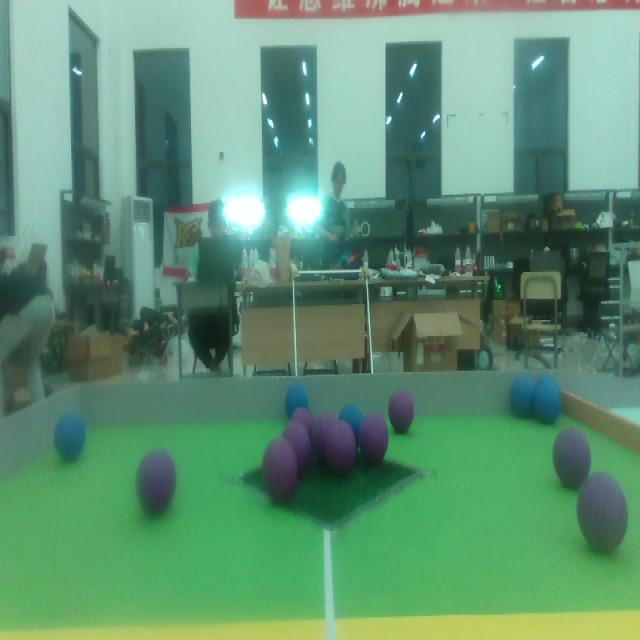blue: (54, 409, 87, 463), (532, 374, 560, 426), (339, 403, 364, 450), (513, 377, 535, 422), (284, 380, 308, 418)
invalid: (576, 467, 626, 555), (137, 449, 178, 518), (551, 425, 591, 485), (262, 436, 298, 502), (327, 426, 357, 478), (360, 416, 390, 468), (310, 412, 340, 461), (284, 418, 311, 465), (390, 393, 415, 433), (290, 408, 310, 430)
